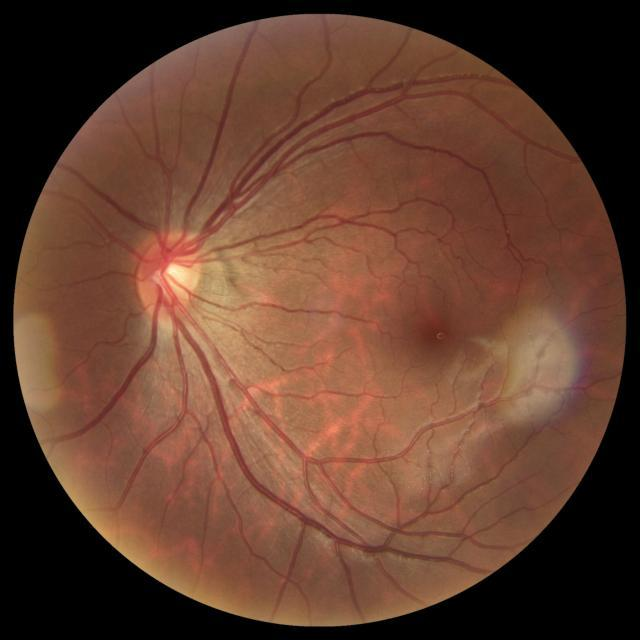OC: (160, 262, 187, 287)
OD: (136, 240, 202, 312)
